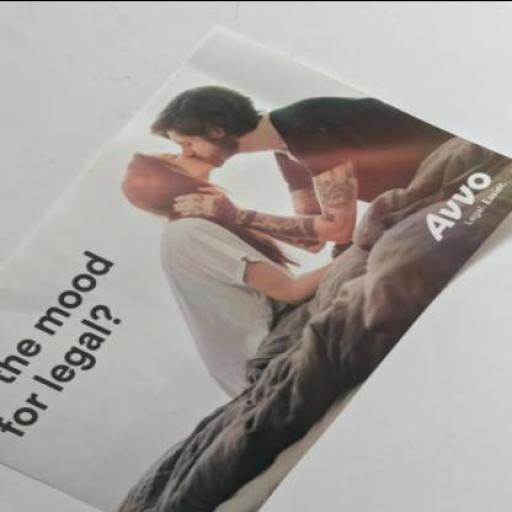paper: (1, 24, 511, 510)
